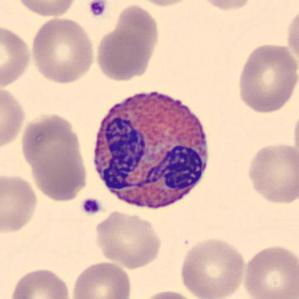Eosinophil: (85, 80, 217, 218)
Platelets: (80, 196, 102, 217), (86, 0, 109, 19)
RBC: (92, 1, 162, 84), (29, 14, 96, 86), (234, 40, 298, 115), (177, 234, 247, 299), (92, 208, 164, 270), (18, 110, 85, 175), (29, 135, 89, 202), (244, 140, 298, 206), (241, 243, 298, 299), (68, 258, 134, 299), (0, 171, 40, 235), (0, 22, 34, 90), (7, 266, 74, 299), (0, 84, 27, 151), (12, 0, 81, 18), (284, 5, 299, 70), (192, 0, 258, 13), (136, 288, 199, 299), (290, 103, 299, 169), (130, 0, 198, 7)
